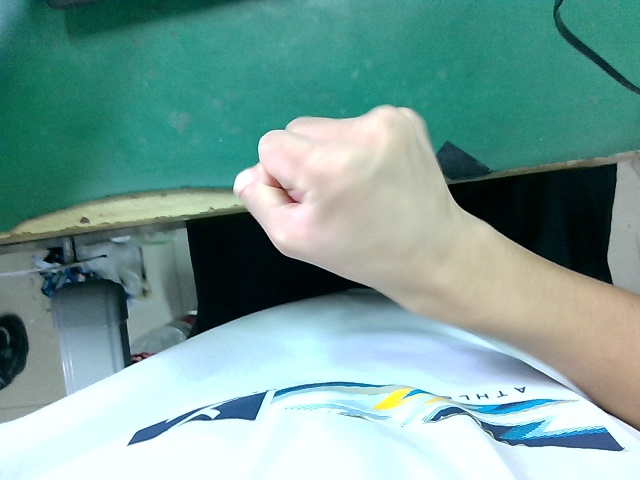stone: (232, 89, 472, 289)
